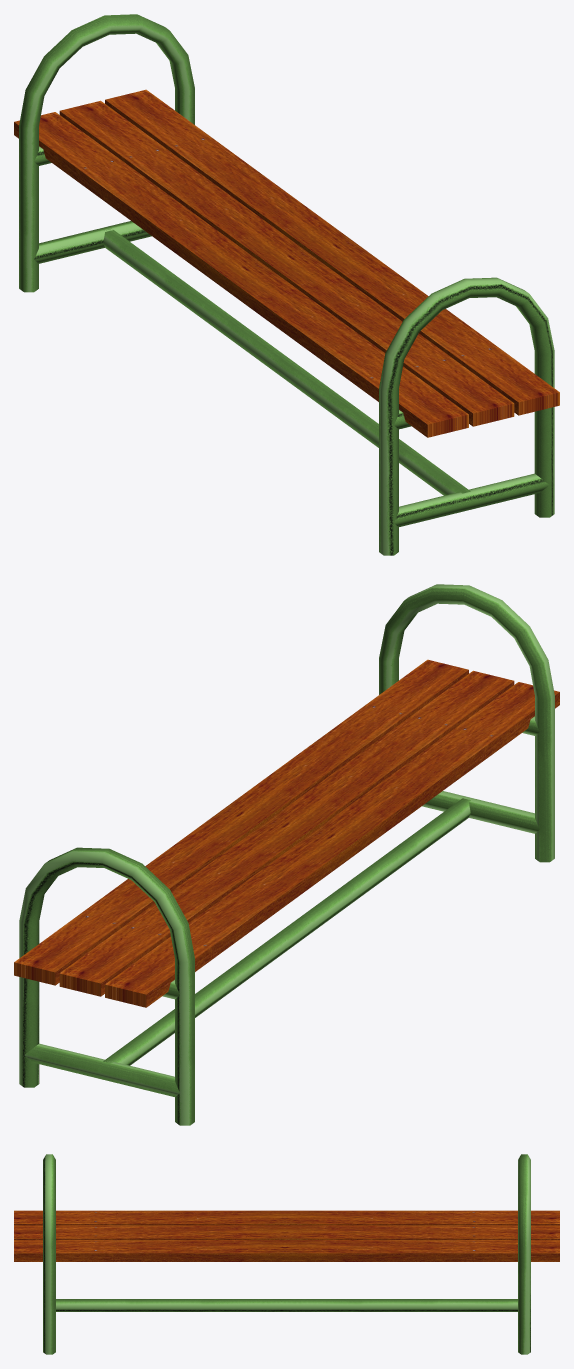
Rendered from Bench.fbx.
3 views of the same model, one above another, from view 1: azimuth 30°, elevation 25°; view 2: azimuth 150°, elevation 25°; view 3: azimuth 270°, elevation 25° (orthographic). The views are drawn at different scales.
Parts seen in each view (by area): view 1: Bench; view 2: Bench; view 3: Bench.
Boxes of the visible parts, box(x1,y1,x2,y2) form: Bench: box(14, 14, 559, 555); Bench: box(14, 584, 559, 1125); Bench: box(14, 1154, 559, 1354).
Size of the model in its own units: 54.8 by 77.4 by 230.
